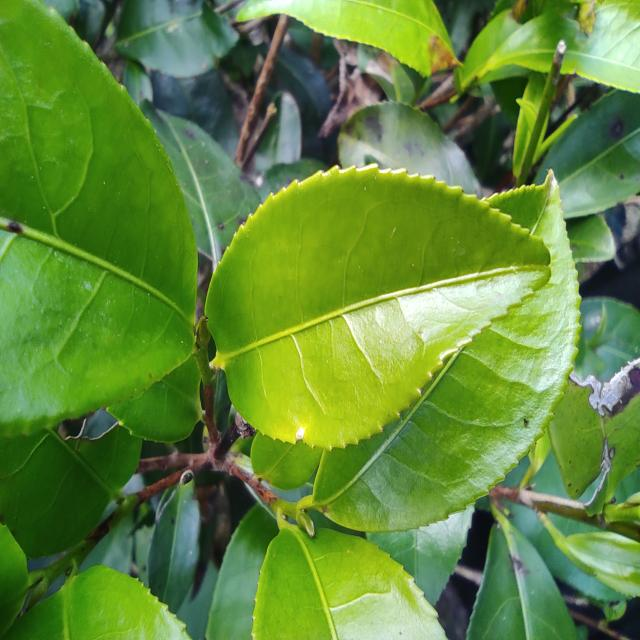Category B(2-4 days): (188, 146, 556, 473)
